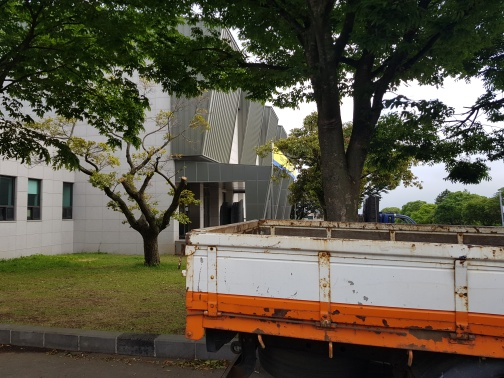Gym: (11, 67, 300, 222)
